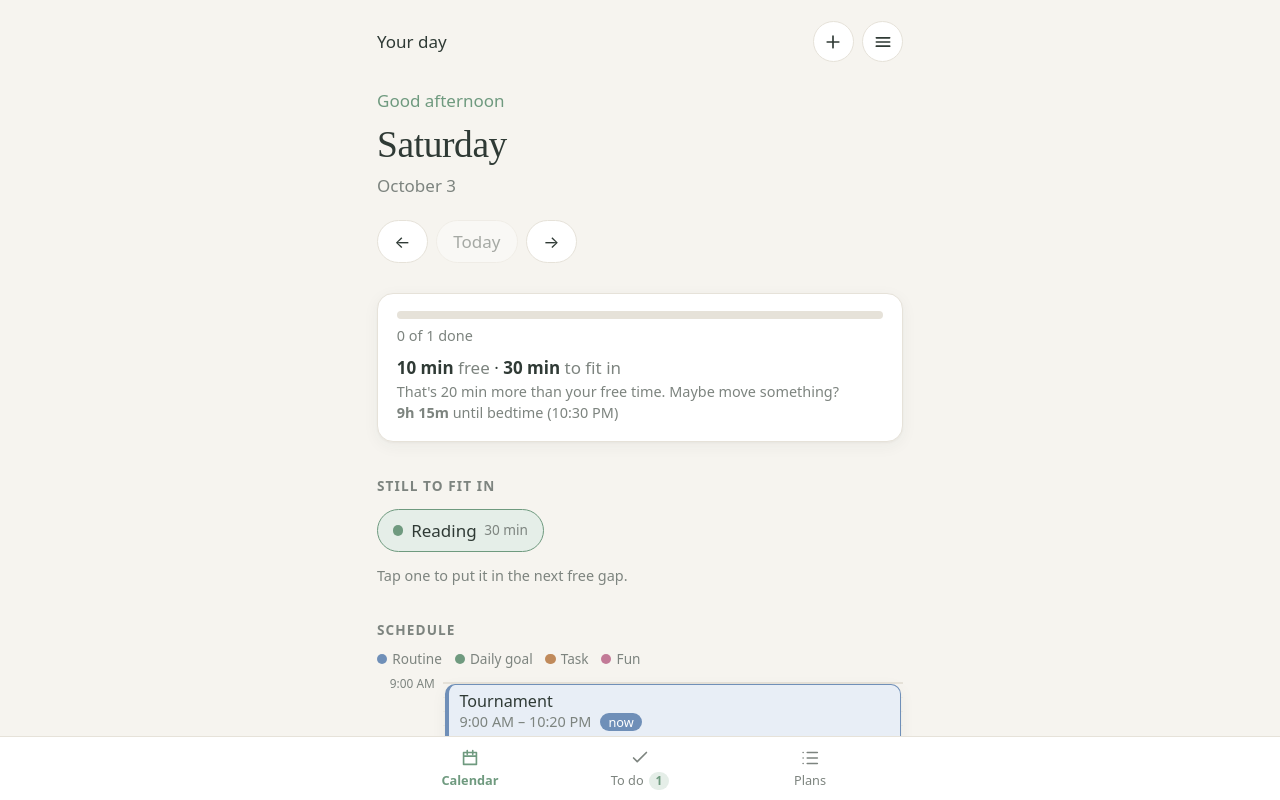
Test: scheduling goals and tasks › says so gently when nothing fits
Expected: the heading "Saturday" is shown, [377, 124, 507, 165]
Step 1. Click the button "To do 1" → (640, 768), box [555, 743, 725, 794]
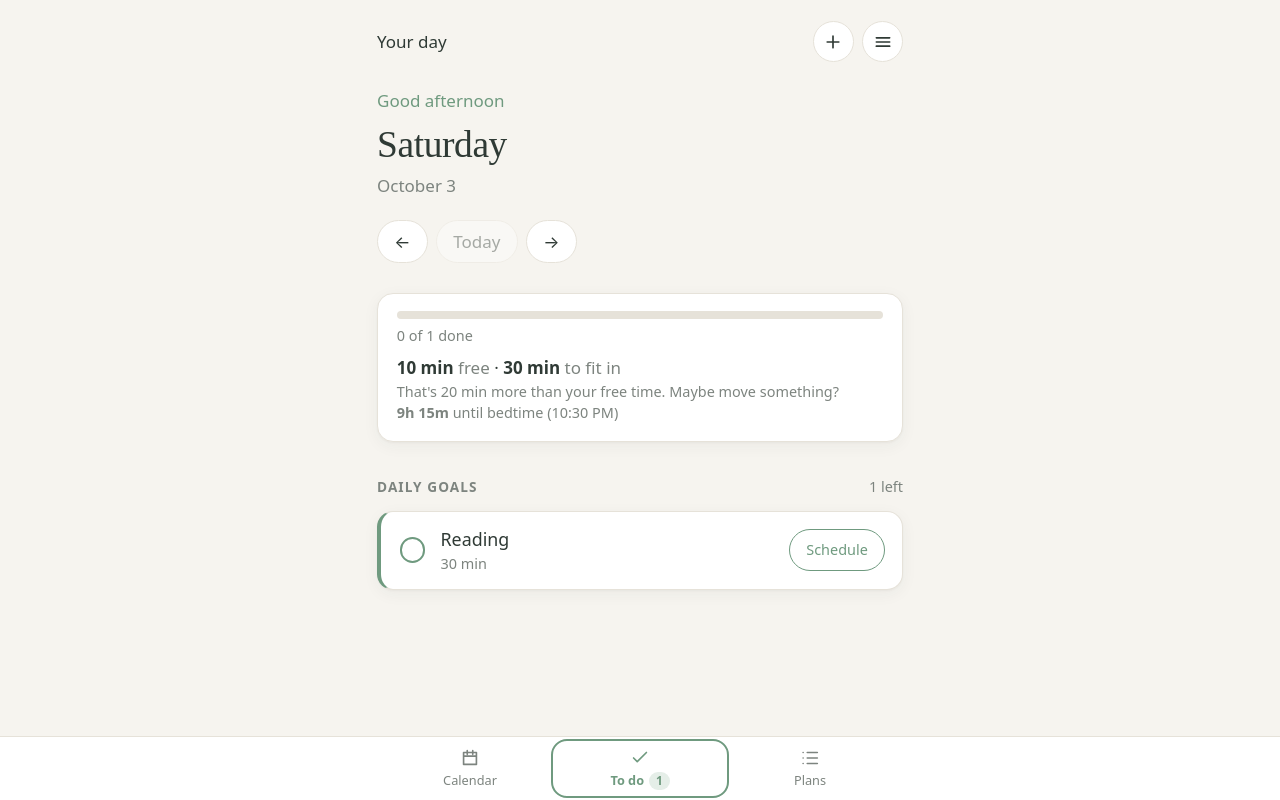
Step 2. Click the button with aria-label "Schedule Reading" → (837, 550), box [789, 529, 885, 572]
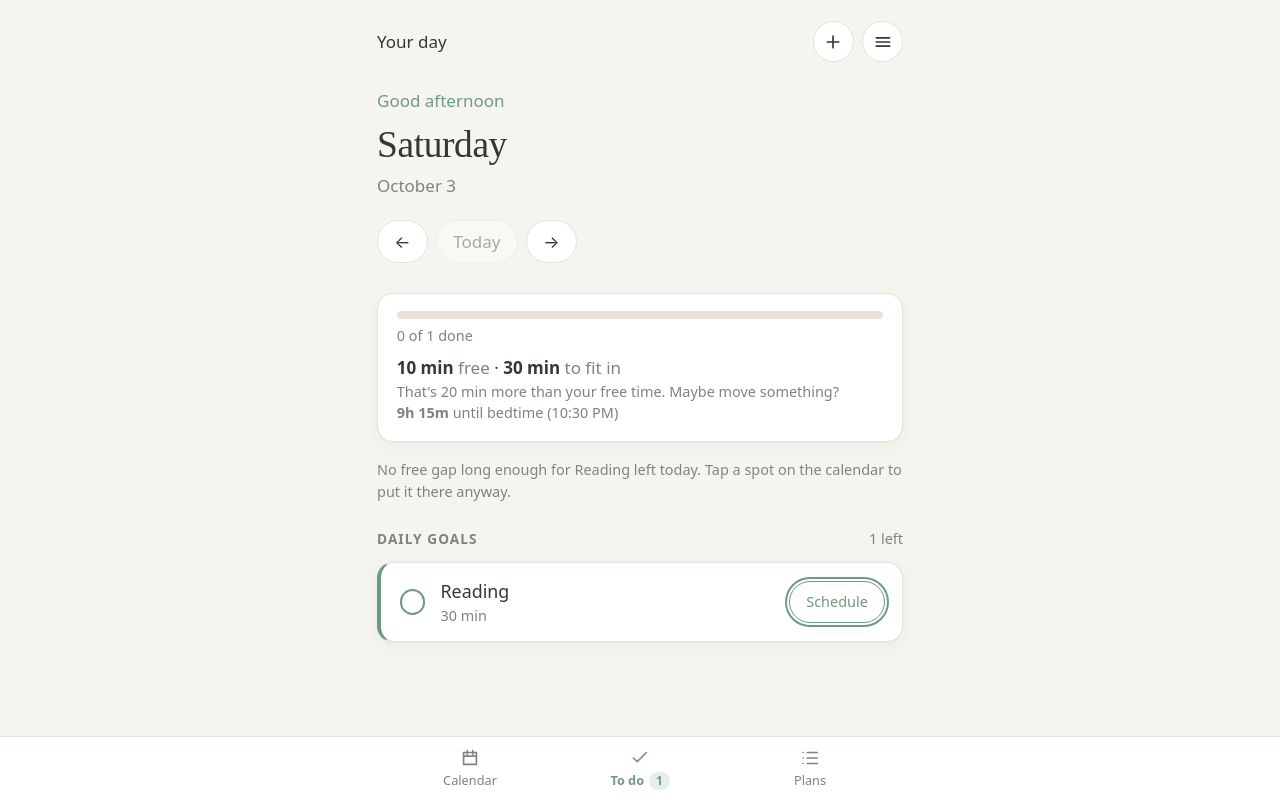
Now the message shows "No free gap long enough for Reading left today", box [377, 460, 902, 501]
